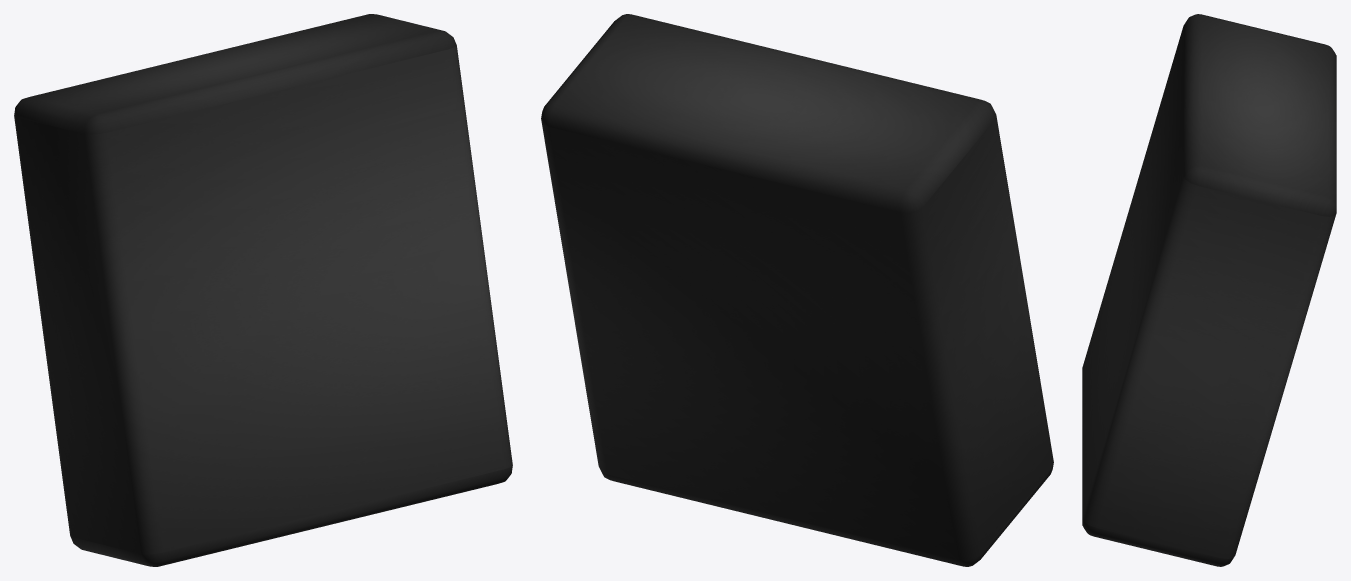
File: controles.fbx
The picture shows the model from 3 angles, left to right: view 1: azimuth 30°, elevation 25°; view 2: azimuth 150°, elevation 25°; view 3: azimuth 270°, elevation 25°; orthographic projection. The views are drawn at different scales.
Visible parts, largest first — view 1: controles; view 2: controles; view 3: controles.
Part boxes in pixels (<box>): controles: <box>14,14,512,566</box>; controles: <box>541,14,1053,566</box>; controles: <box>1082,14,1336,566</box>.
Size of the model in its own units: 1.64 by 1.87 by 1.08.
